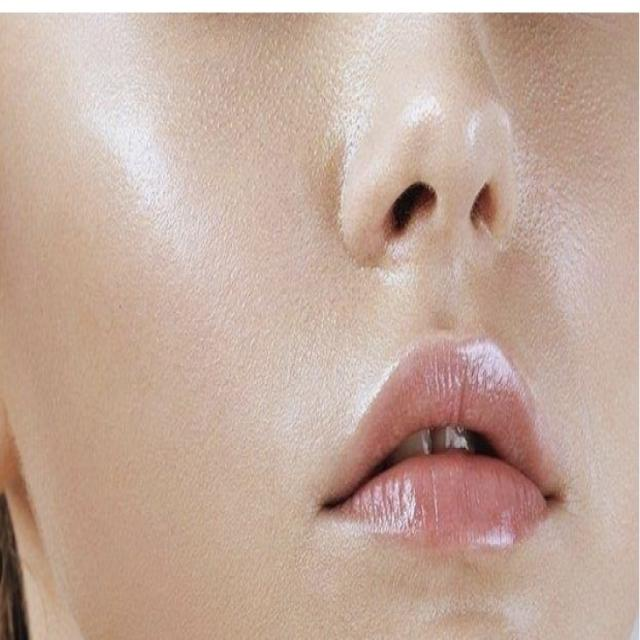Oily-Skin: (332, 34, 564, 288), (115, 327, 277, 640), (316, 438, 453, 632), (515, 315, 624, 548), (230, 87, 340, 308), (102, 61, 191, 301), (47, 388, 48, 389)
